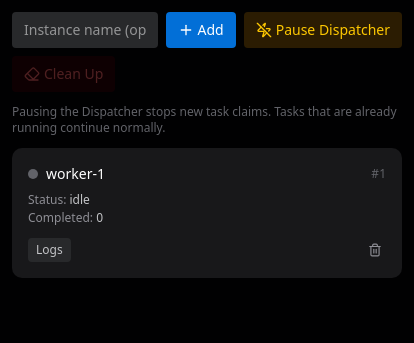
Test: InstanceGrid safety controls › confirms an idle instance deletion and surfaces API failures
The width and height of the screenshot is (414, 343).
Click the button named "Delete worker-1": (375, 250) [364,238,386,262]
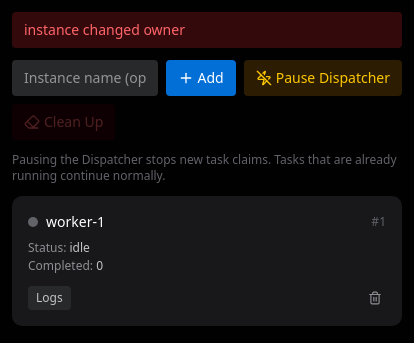
Check: the message reads "instance changed owner", box [24,20,185,39]
